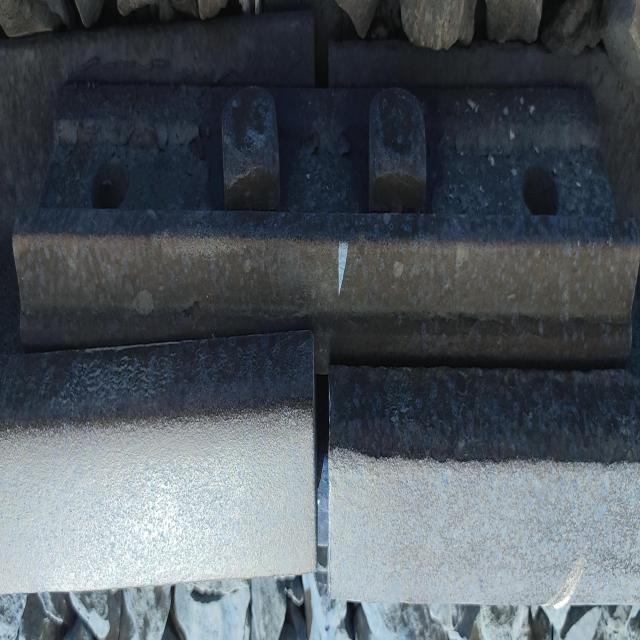Defective Joint: (12, 82, 640, 370)
